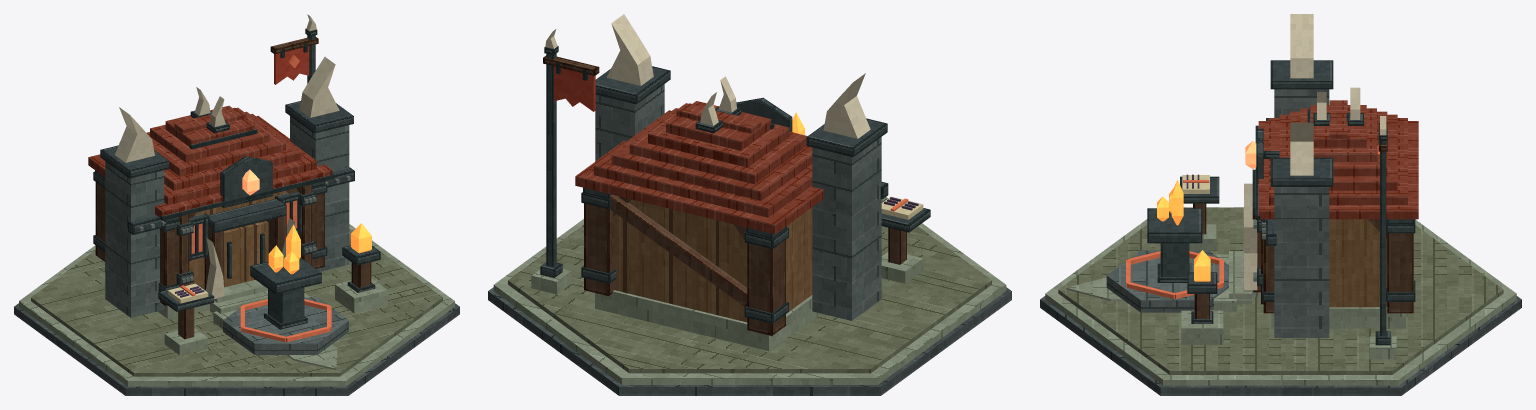
Rendered from orc_infernal_sanctum_hex_v1.glb.
3 renders of one model, left to right at view 1: azimuth 30°, elevation 25°; view 2: azimuth 150°, elevation 25°; view 3: azimuth 270°, elevation 25°, orthographic. The views are drawn at different scales.
Parts seen in each view (by area): view 1: Orc_Infernal_Sanctum_Hex_V1_Foundation, Orc_Infernal_Sanctum_Hex_V1_Hall, Orc_Infernal_Sanctum_Hex_V1_Roofs, Orc_Infernal_Sanctum_Hex_V1_Focus, Orc_Infernal_Sanctum_Hex_V1_Details, Orc_Infernal_Sanctum_Hex_V1_Courtyard, Orc_Infernal_Sanctum_Hex_V1_Training, Orc_Infernal_Sanctum_Hex_V1_Faction; view 2: Orc_Infernal_Sanctum_Hex_V1_Foundation, Orc_Infernal_Sanctum_Hex_V1_Hall, Orc_Infernal_Sanctum_Hex_V1_Roofs, Orc_Infernal_Sanctum_Hex_V1_Faction, Orc_Infernal_Sanctum_Hex_V1_Focus, Orc_Infernal_Sanctum_Hex_V1_Details, Orc_Infernal_Sanctum_Hex_V1_Training; view 3: Orc_Infernal_Sanctum_Hex_V1_Foundation, Orc_Infernal_Sanctum_Hex_V1_Hall, Orc_Infernal_Sanctum_Hex_V1_Roofs, Orc_Infernal_Sanctum_Hex_V1_Focus, Orc_Infernal_Sanctum_Hex_V1_Courtyard, Orc_Infernal_Sanctum_Hex_V1_Training, Orc_Infernal_Sanctum_Hex_V1_Details, Orc_Infernal_Sanctum_Hex_V1_Faction.
Part boxes in pixels (x1,y1,x2,y2): Orc_Infernal_Sanctum_Hex_V1_Foundation: (14,224,459,395); Orc_Infernal_Sanctum_Hex_V1_Hall: (93,116,349,318); Orc_Infernal_Sanctum_Hex_V1_Roofs: (88,101,353,220); Orc_Infernal_Sanctum_Hex_V1_Focus: (115,57,387,329); Orc_Infernal_Sanctum_Hex_V1_Details: (95,87,354,299); Orc_Infernal_Sanctum_Hex_V1_Courtyard: (210,280,348,369); Orc_Infernal_Sanctum_Hex_V1_Training: (158,283,331,355); Orc_Infernal_Sanctum_Hex_V1_Faction: (270,14,318,84); Orc_Infernal_Sanctum_Hex_V1_Foundation: (488,197,1011,395); Orc_Infernal_Sanctum_Hex_V1_Hall: (581,84,881,350); Orc_Infernal_Sanctum_Hex_V1_Roofs: (575,66,887,234); Orc_Infernal_Sanctum_Hex_V1_Faction: (531,29,599,294); Orc_Infernal_Sanctum_Hex_V1_Focus: (606,14,870,138); Orc_Infernal_Sanctum_Hex_V1_Details: (583,76,888,306); Orc_Infernal_Sanctum_Hex_V1_Training: (881,196,930,283); Orc_Infernal_Sanctum_Hex_V1_Foundation: (1040,207,1521,395); Orc_Infernal_Sanctum_Hex_V1_Hall: (1252,89,1415,337); Orc_Infernal_Sanctum_Hex_V1_Roofs: (1255,60,1418,219); Orc_Infernal_Sanctum_Hex_V1_Focus: (1147,14,1313,344); Orc_Infernal_Sanctum_Hex_V1_Courtyard: (1066,247,1260,312); Orc_Infernal_Sanctum_Hex_V1_Training: (1126,174,1223,298); Orc_Infernal_Sanctum_Hex_V1_Details: (1244,87,1414,304); Orc_Infernal_Sanctum_Hex_V1_Faction: (1369,116,1396,359).
Size of the model in its own units: 1.59 by 1.07 by 1.84.
1 material, 1 textured.
